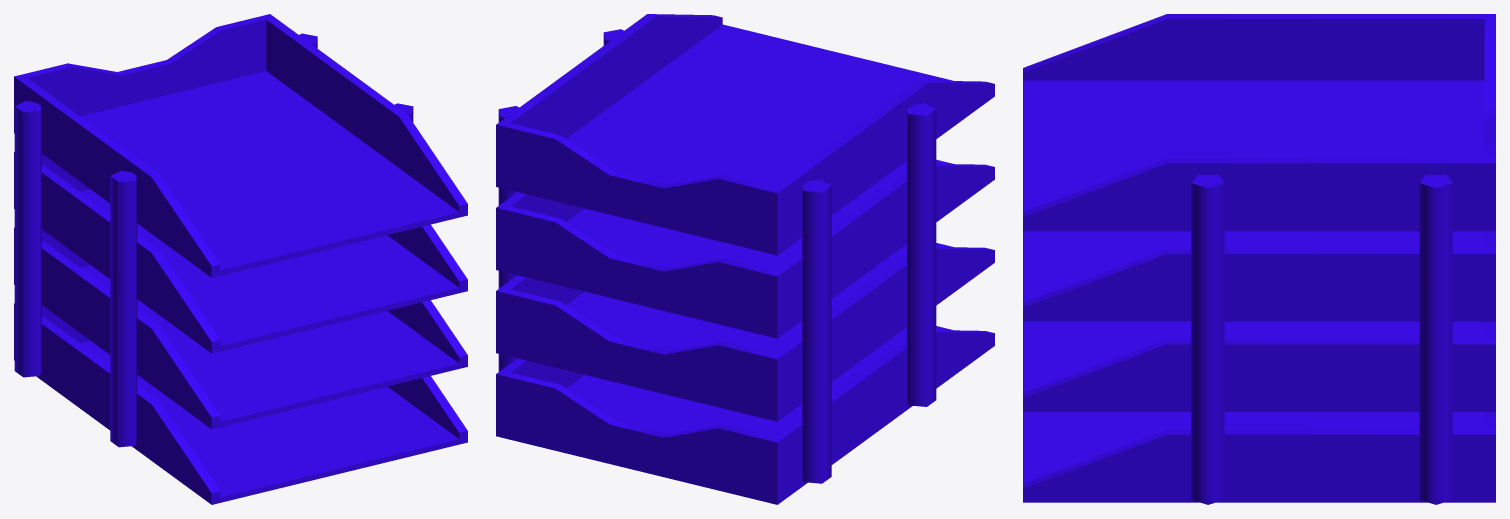
The model's file is office_pack_paperTray_1_meshCollider.fbx.
The picture shows the model from 3 angles, left to right: view 1: azimuth 30°, elevation 25°; view 2: azimuth 150°, elevation 25°; view 3: azimuth 270°, elevation 25°; orthographic projection. The views are drawn at different scales.
Visible parts, largest first — view 1: office_pack_paperTray_1_meshCollider; view 2: office_pack_paperTray_1_meshCollider; view 3: office_pack_paperTray_1_meshCollider.
Boxes of the visible parts, x1=… form: office_pack_paperTray_1_meshCollider: x1=14, y1=14, x2=467, y2=504; office_pack_paperTray_1_meshCollider: x1=496, y1=14, x2=994, y2=504; office_pack_paperTray_1_meshCollider: x1=1023, y1=14, x2=1495, y2=504.
Size of the model in its own units: 19.5 by 17.7 by 22.37.
